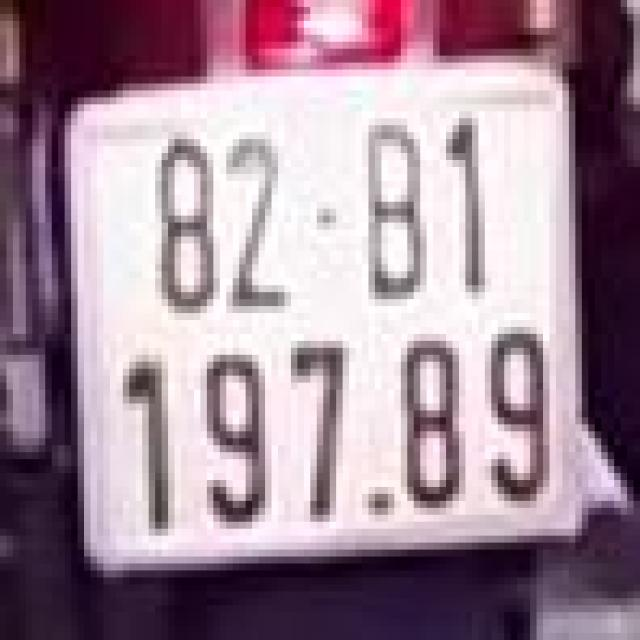1: (116, 351, 181, 532), (443, 111, 494, 306)
2: (223, 132, 288, 320)
7: (284, 334, 356, 522)
8: (394, 330, 466, 504), (152, 132, 216, 320)
9: (197, 341, 275, 529), (485, 320, 556, 508)
B: (362, 118, 427, 306)
